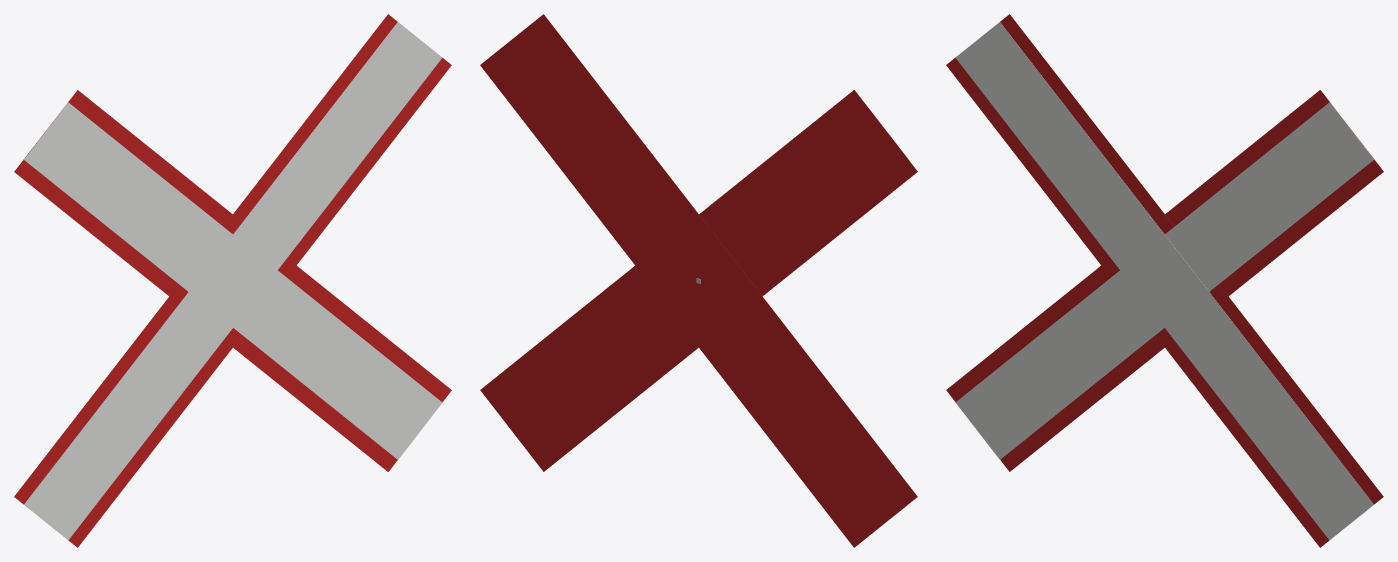
3 renders of one model, left to right at view 1: azimuth 30°, elevation 25°; view 2: azimuth 150°, elevation 25°; view 3: azimuth 330°, elevation 25°, orthographic.
Visible parts, largest first — view 1: G1_bras03, G1_bras02, G1_bras01, G1_bras00; view 2: G1_bras00, G1_bras01; view 3: G1_bras03, G1_bras02, G1_bras01, G1_bras00.
Boxes of the visible parts, bbox=[...] form: G1_bras03: bbox=[24, 102, 442, 459]; G1_bras02: bbox=[24, 22, 442, 540]; G1_bras01: bbox=[14, 90, 451, 471]; G1_bras00: bbox=[14, 14, 451, 547]; G1_bras00: bbox=[480, 14, 917, 547]; G1_bras01: bbox=[480, 90, 917, 471]; G1_bras03: bbox=[955, 22, 1373, 540]; G1_bras02: bbox=[955, 102, 1373, 459]; G1_bras01: bbox=[946, 14, 1383, 547]; G1_bras00: bbox=[946, 90, 1383, 471].
Bounding box in the file's own units: 0.9928 × 0.9928 × 0.0029.
